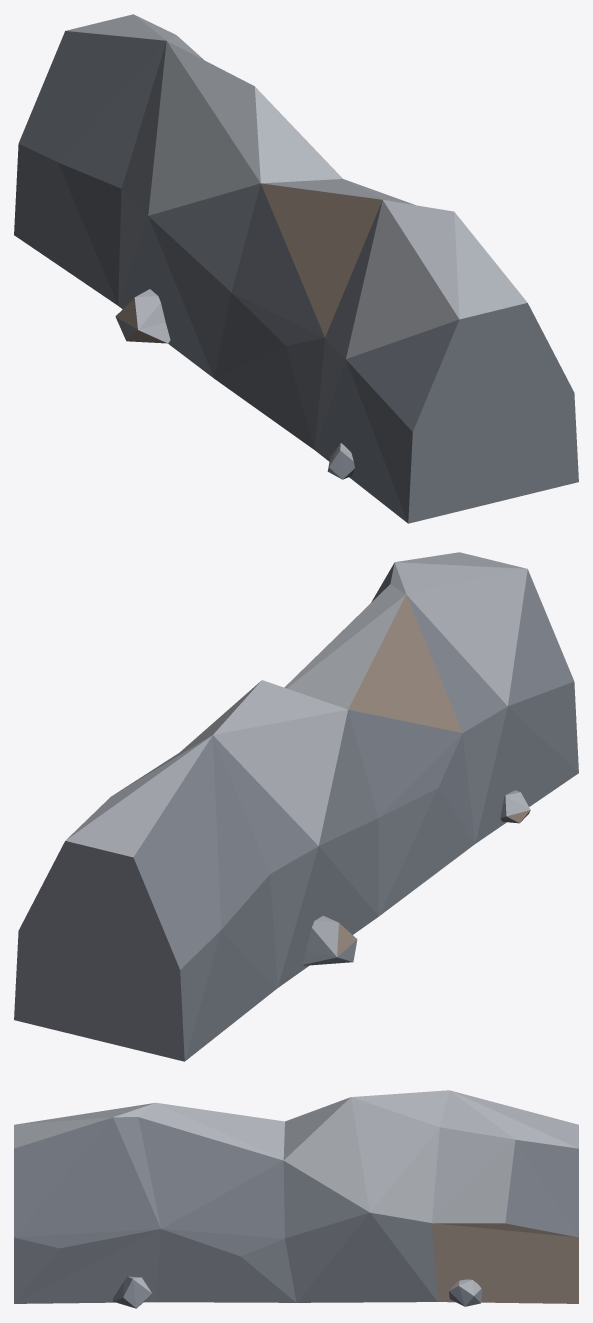
The model's file is ridge_2.glb.
3 views of the same model, one above another, from view 1: azimuth 30°, elevation 25°; view 2: azimuth 150°, elevation 25°; view 3: azimuth 270°, elevation 25° (orthographic). The views are drawn at different scales.
Visible parts, largest first — view 1: Body; view 2: Body; view 3: Body.
Part boxes in pixels (x1,y1,x2,y2): Body: (14, 14, 578, 523); Body: (14, 552, 578, 1061); Body: (14, 1090, 578, 1308).
Bounding box in the file's own units: 3.86 × 4.12 × 12.
